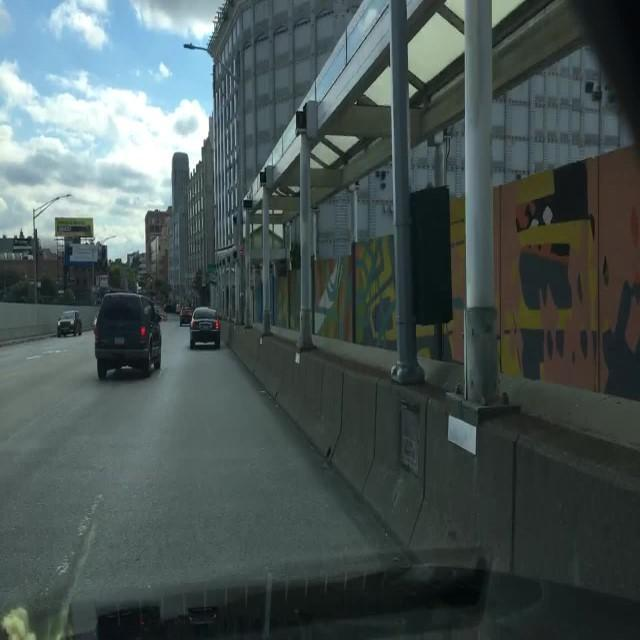normal: (95, 292, 165, 381), (189, 309, 223, 352), (58, 312, 84, 339)
